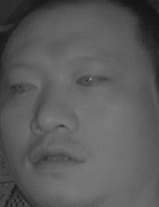eye: (74, 68, 112, 92), (8, 76, 41, 98)
mouth: (26, 138, 88, 176)
